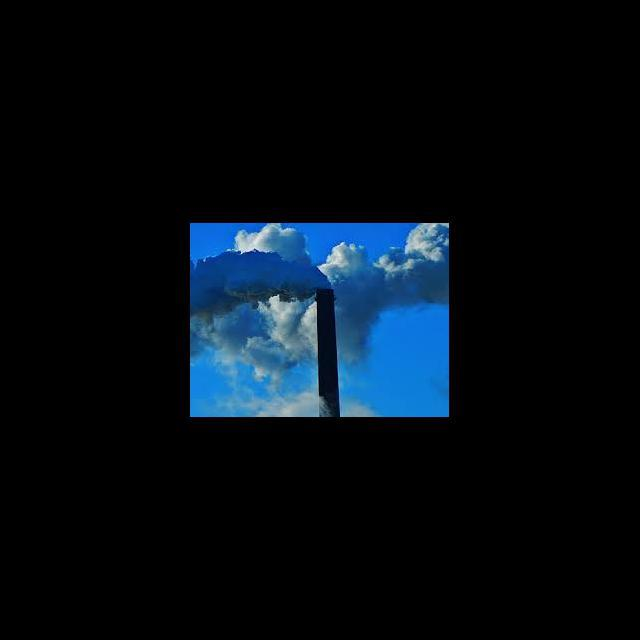Smoke: (338, 223, 448, 307), (258, 301, 316, 384), (236, 223, 310, 254), (338, 308, 372, 364), (260, 391, 316, 416), (341, 397, 371, 417)
